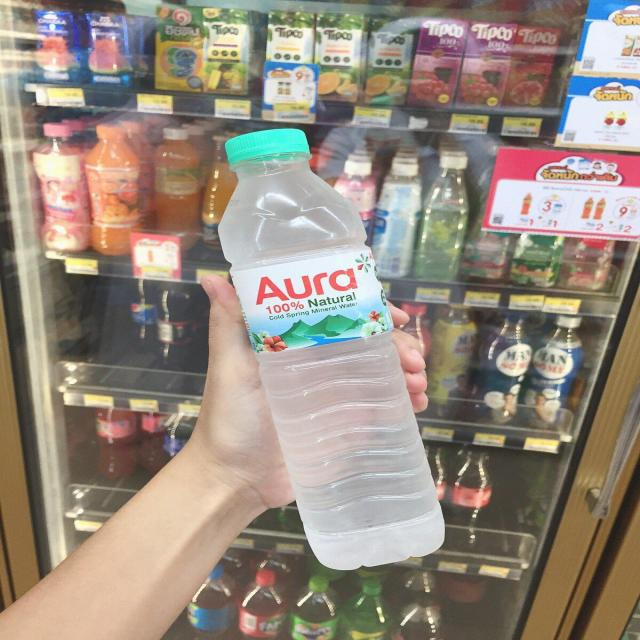bottle: (198, 111, 449, 614)
